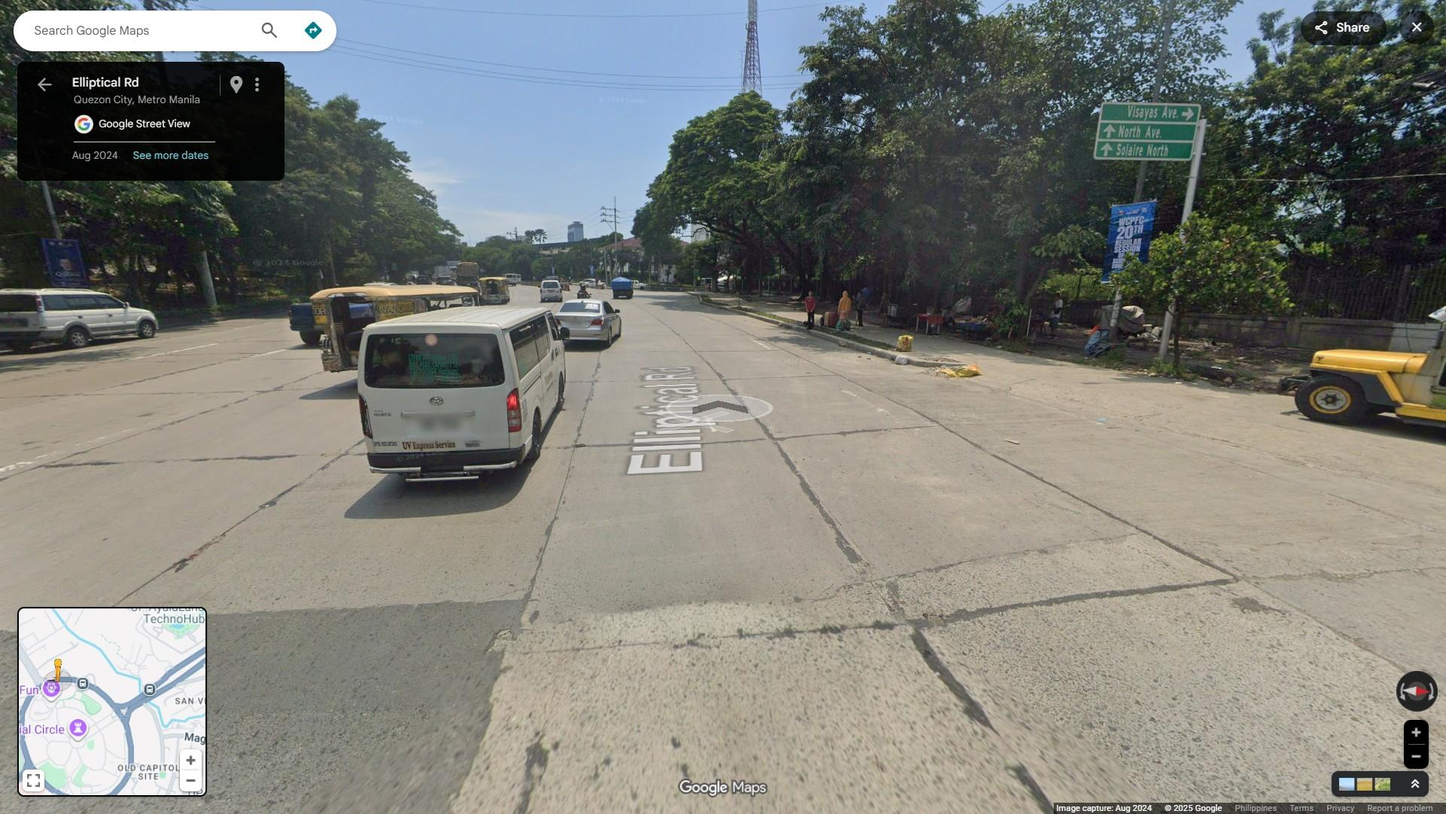pedestrian: (1047, 292, 1063, 340), (1027, 304, 1046, 337), (877, 291, 890, 329), (839, 290, 851, 331), (940, 305, 957, 332), (855, 291, 867, 329), (804, 290, 815, 330), (852, 293, 861, 326)
